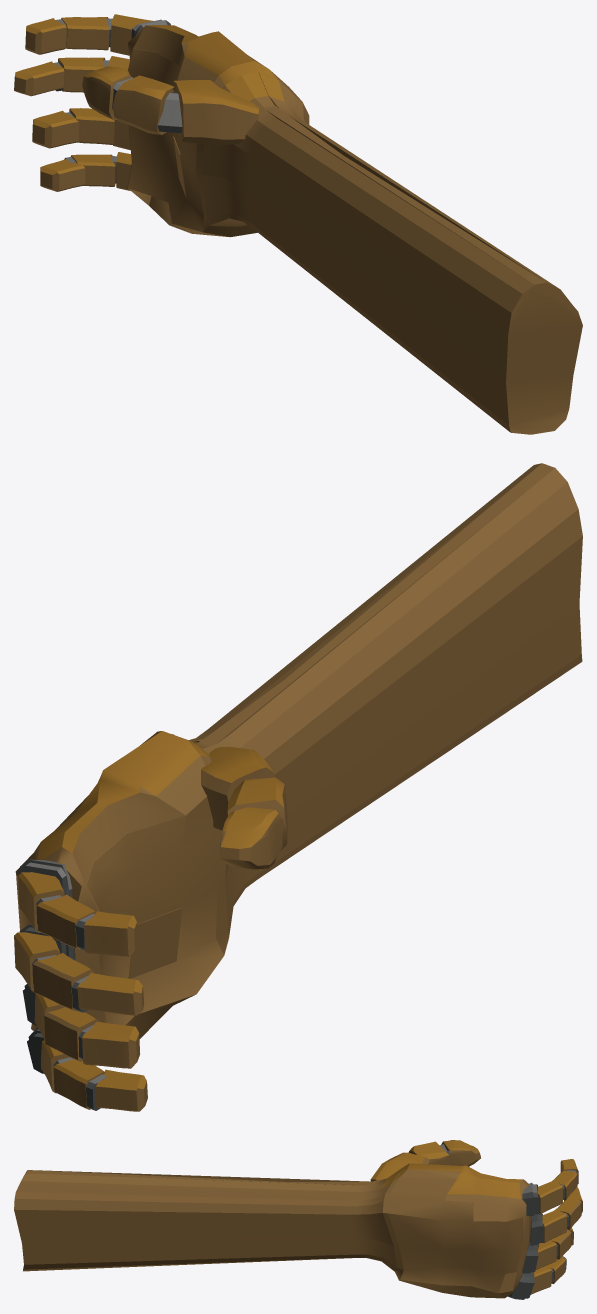
Rendered from Braço steamMadness.fbx.
3 renders of one model, top to bottom at view 1: azimuth 30°, elevation 25°; view 2: azimuth 150°, elevation 25°; view 3: azimuth 270°, elevation 25°, orthographic. The views are drawn at different scales.
Visible parts, largest first — view 1: polySurface73; view 2: polySurface73; view 3: polySurface73.
Boxes of the visible parts, left/top/right/bottom form: polySurface73: left=14, top=14, right=582, bottom=434; polySurface73: left=14, top=463, right=582, bottom=1111; polySurface73: left=14, top=1140, right=582, bottom=1299.
Size of the model in its own units: 9.87 by 11.34 by 44.93.
